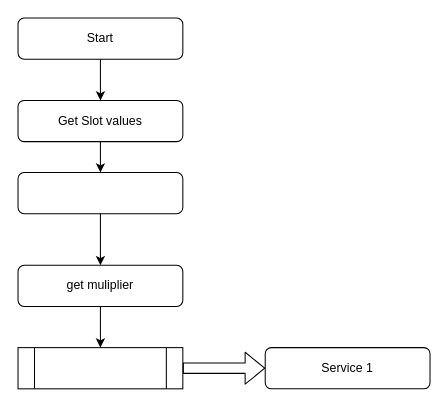
Some shapes in this 448 by 407 pixel diagram are drawn without their labels. Each missing label, with the box of its shape:
amount * multiplier: (17, 347, 183, 389)
Calc amount: (17, 171, 183, 214)
